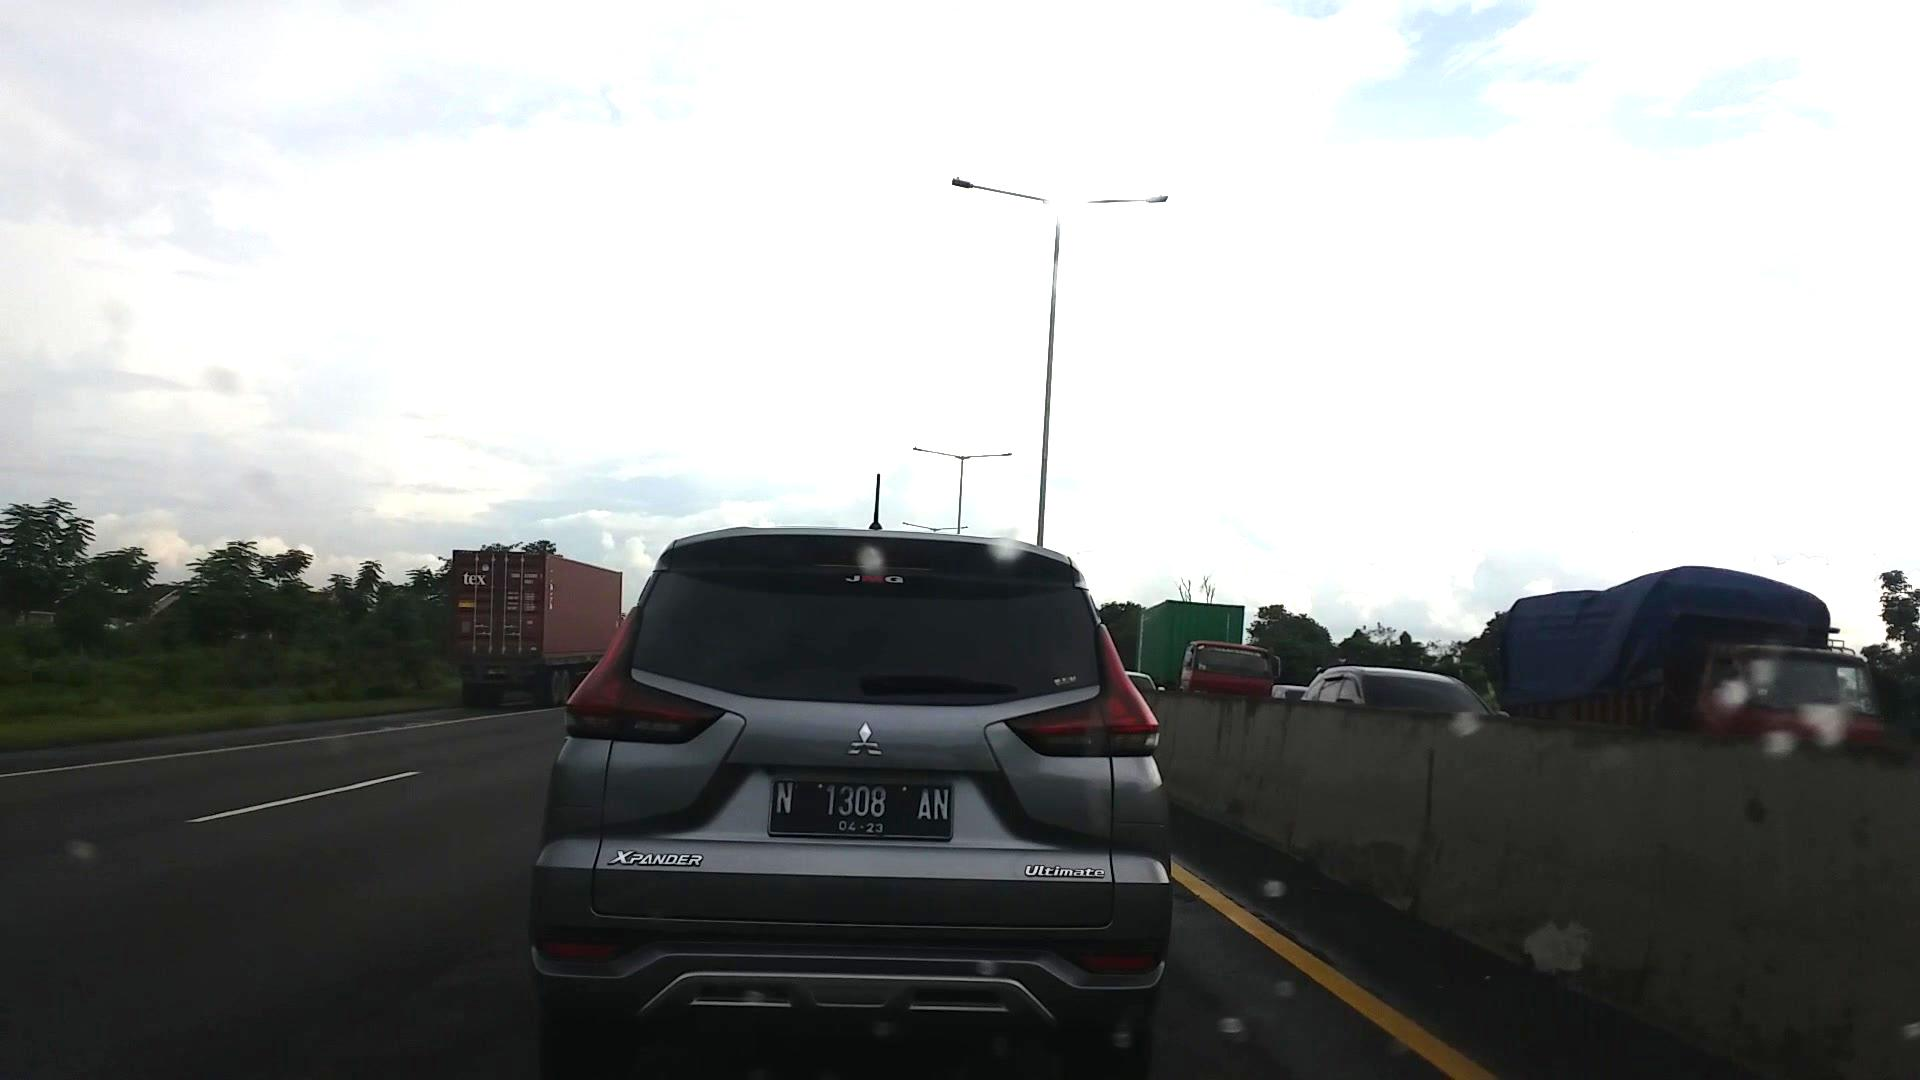plate_positive: (767, 781, 955, 843)
